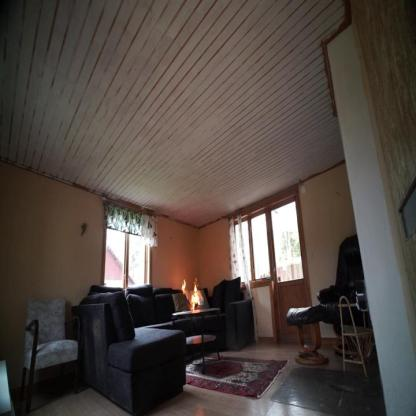fire: (190, 277, 202, 311), (180, 277, 186, 294)
